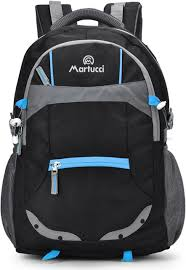bag: (6, 4, 181, 261)
